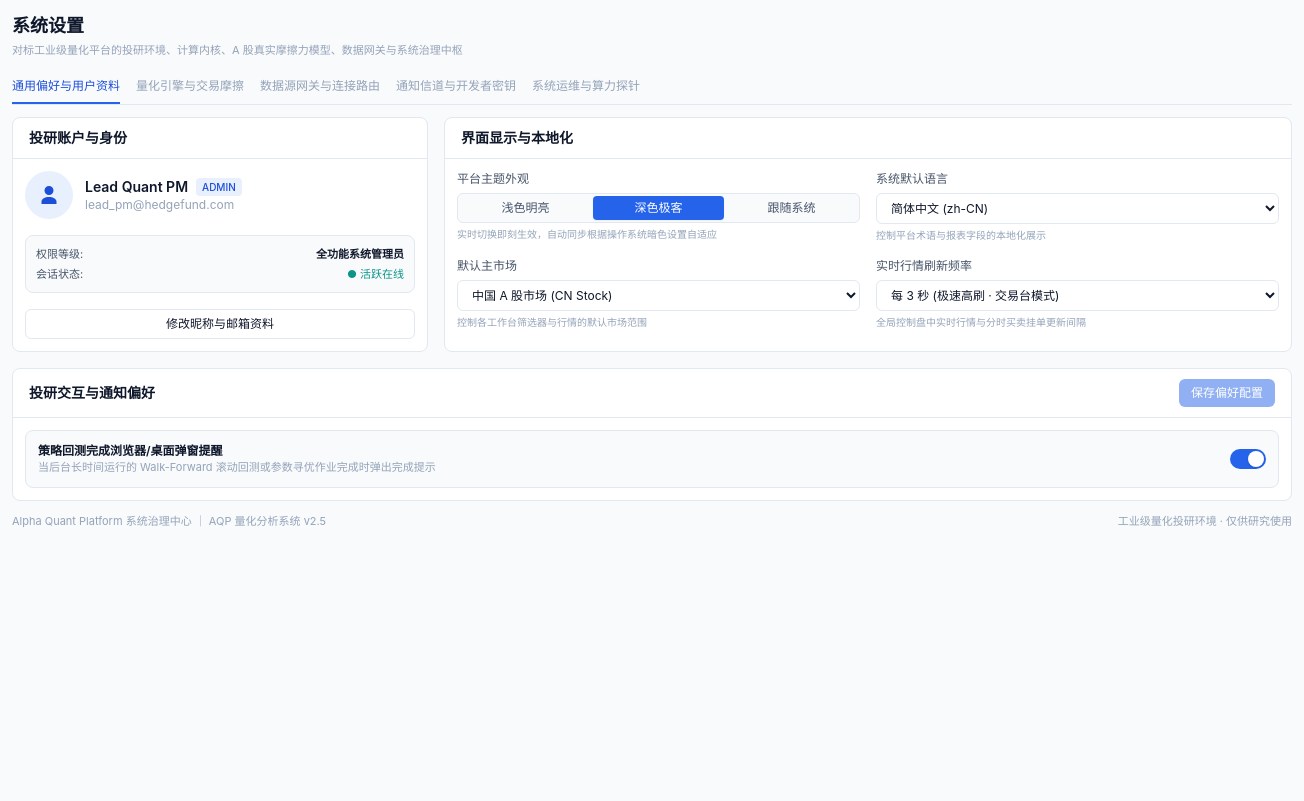
系统设置 P0/P1/P2 演进重构组件测试 › Settings 主页面 5-Tab 导航切换与数据全景加载集成测试
This screenshot has width=1304, height=801.
Expected: the heading "系统设置" is shown, left=12, top=15, right=84, bottom=36
Expected: the heading "投研账户与身份" is shown, left=29, top=128, right=127, bottom=148
# 切换至 Tab 2: 量化引擎与交易摩擦
Click the button "量化引擎与交易摩擦". click: (190, 87)
box: left=136, top=70, right=244, bottom=104
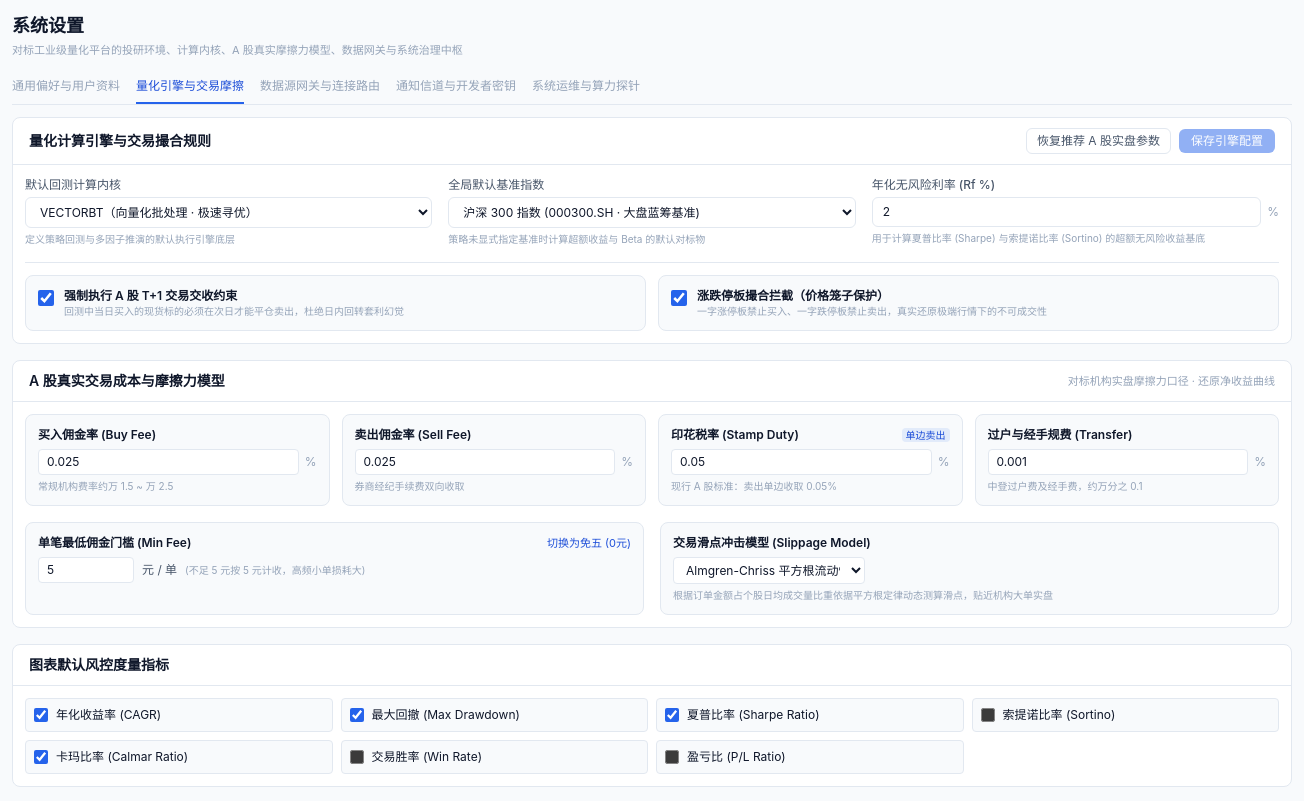
Expected: the heading "量化计算引擎与交易撮合规则" is shown, left=29, top=131, right=211, bottom=151
Expected: the heading "A 股真实交易成本与摩擦力模型" is shown, left=29, top=371, right=225, bottom=391
# 切换至 Tab 3: 数据源网关与连接路由
Click the button "数据源网关与连接路由". click: (320, 87)
box: left=260, top=70, right=380, bottom=104
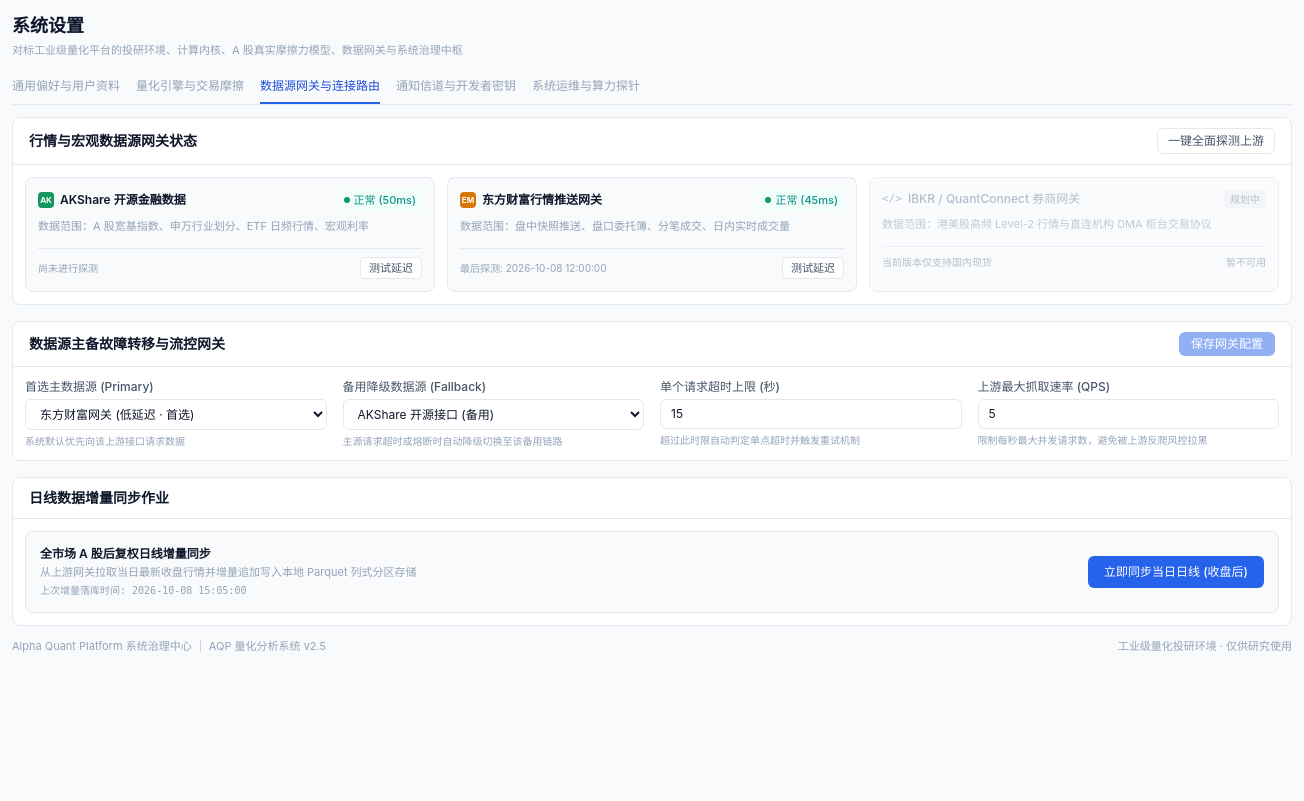
Expected: the heading "行情与宏观数据源网关状态" is shown, left=29, top=131, right=197, bottom=151
# 切换至 Tab 4: 通知信道与开发者密钥
Click the button "通知信道与开发者密钥". click: (456, 87)
box: left=396, top=70, right=516, bottom=104
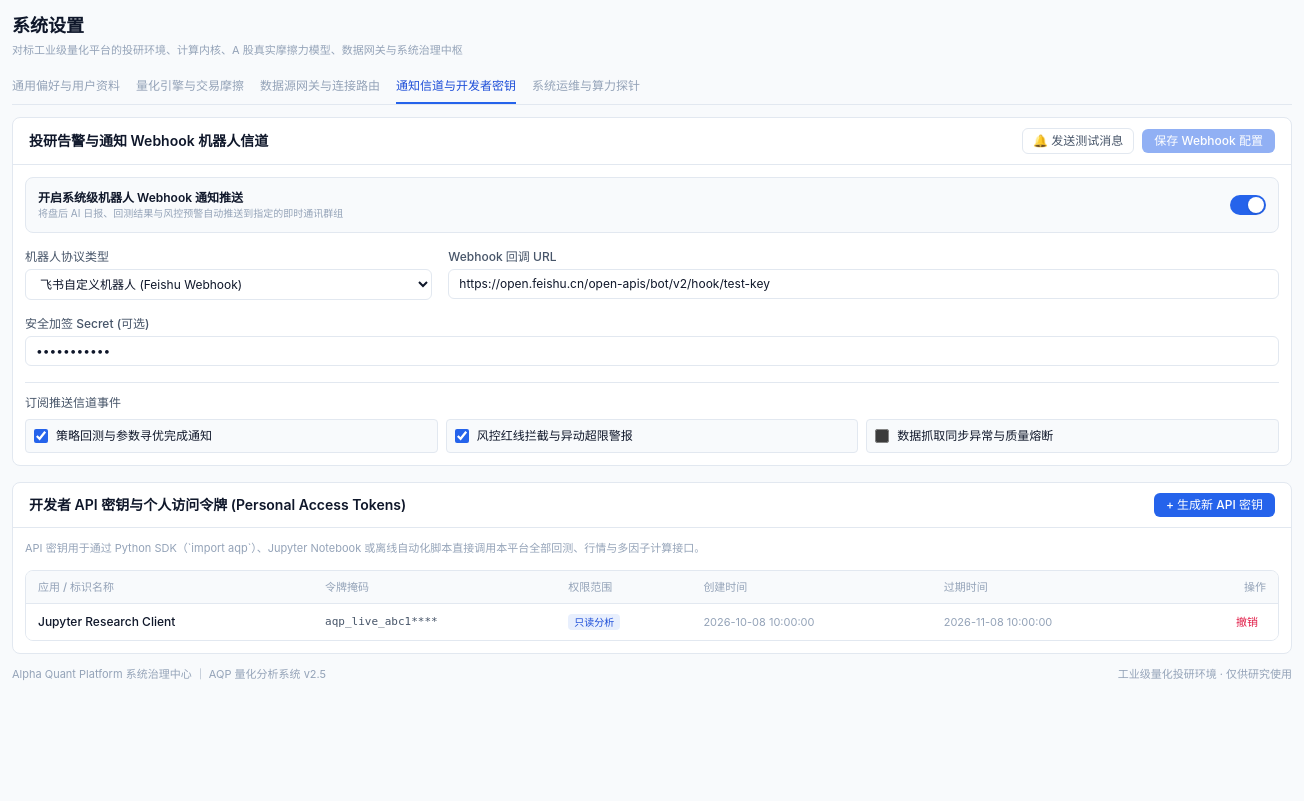
Expected: the heading "投研告警与通知 Webhook 机器人信道" is shown, left=29, top=131, right=268, bottom=151
# 切换至 Tab 5: 系统运维与算力探针
Click the button "系统运维与算力探针". click: (586, 87)
box: left=532, top=70, right=640, bottom=104
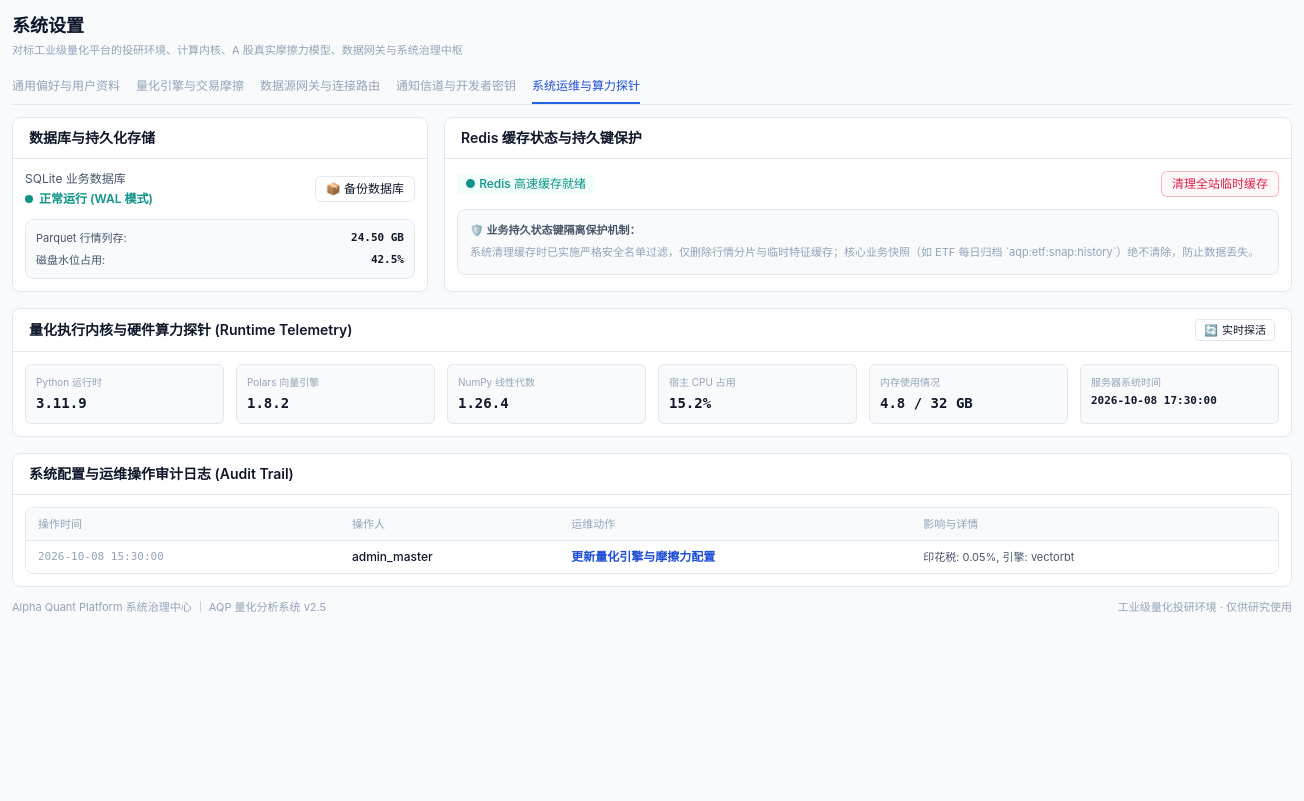
Expected: the heading "数据库与持久化存储" is shown, left=29, top=128, right=155, bottom=148
Expected: the heading "系统配置与运维操作审计日志 (Audit Trail)" is shown, left=29, top=464, right=294, bottom=484
